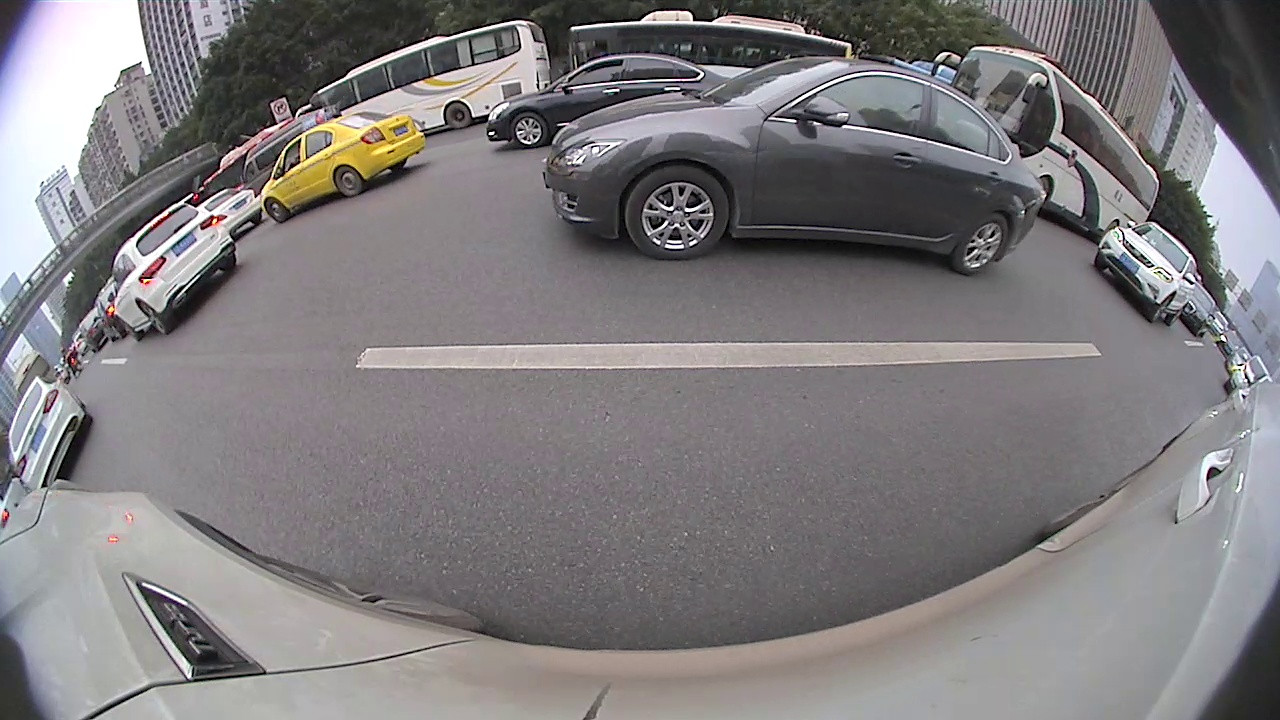bus: (930, 42, 1159, 238), (292, 17, 552, 133), (565, 7, 853, 80), (196, 118, 292, 198), (10, 351, 53, 398)
car: (541, 54, 1044, 280), (487, 52, 742, 152), (102, 204, 239, 342), (1092, 220, 1197, 327), (4, 375, 89, 492), (243, 103, 339, 196), (199, 180, 263, 236), (90, 277, 129, 344), (1228, 355, 1273, 404), (1182, 283, 1216, 342), (77, 305, 110, 353)
front: (626, 166, 731, 259), (509, 111, 547, 147), (1147, 293, 1174, 321), (263, 198, 288, 222)
rear: (955, 216, 1009, 273), (137, 299, 172, 333), (333, 167, 362, 195), (445, 103, 470, 128), (1165, 302, 1187, 324)
rider: (59, 346, 83, 373)
